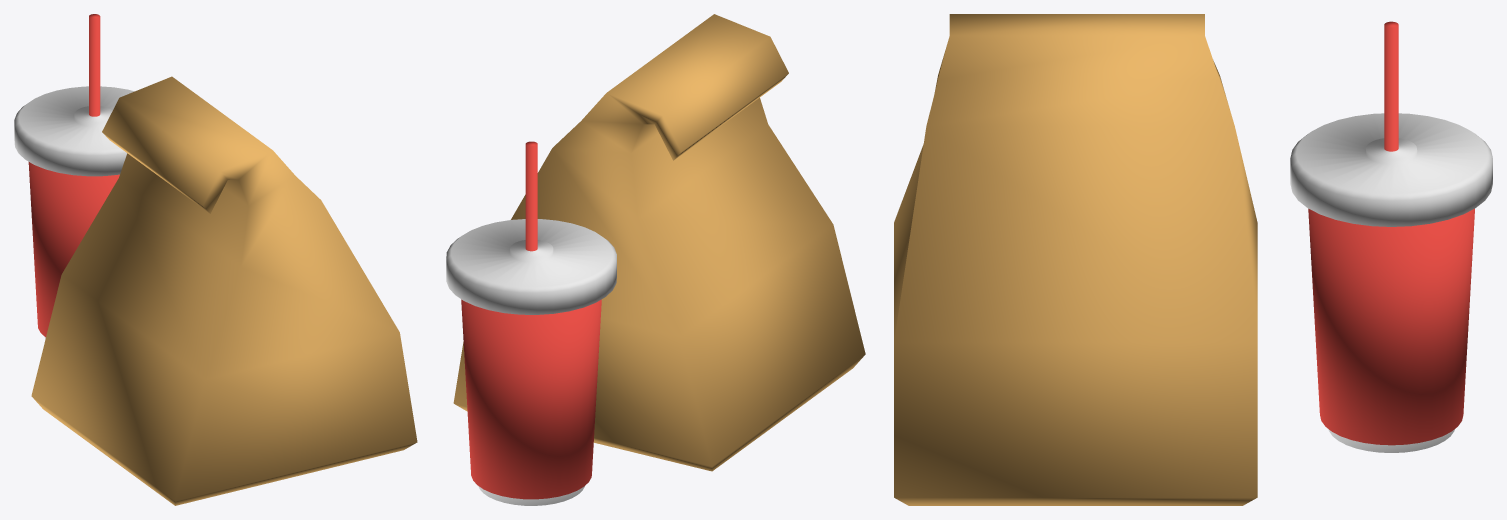
File: FOOD.fbx
3 renders of one model, left to right at view 1: azimuth 30°, elevation 25°; view 2: azimuth 150°, elevation 25°; view 3: azimuth 270°, elevation 25°, orthographic. The views are drawn at different scales.
Parts seen in each view (by area): view 1: Cube; view 2: Cube; view 3: Cube.
Boxes of the visible parts, x1,y1,x2,y2 form: Cube: (14, 14, 417, 505); Cube: (446, 14, 865, 505); Cube: (894, 14, 1492, 505).
Bounding box in the file's own units: 113 × 145 × 192.
